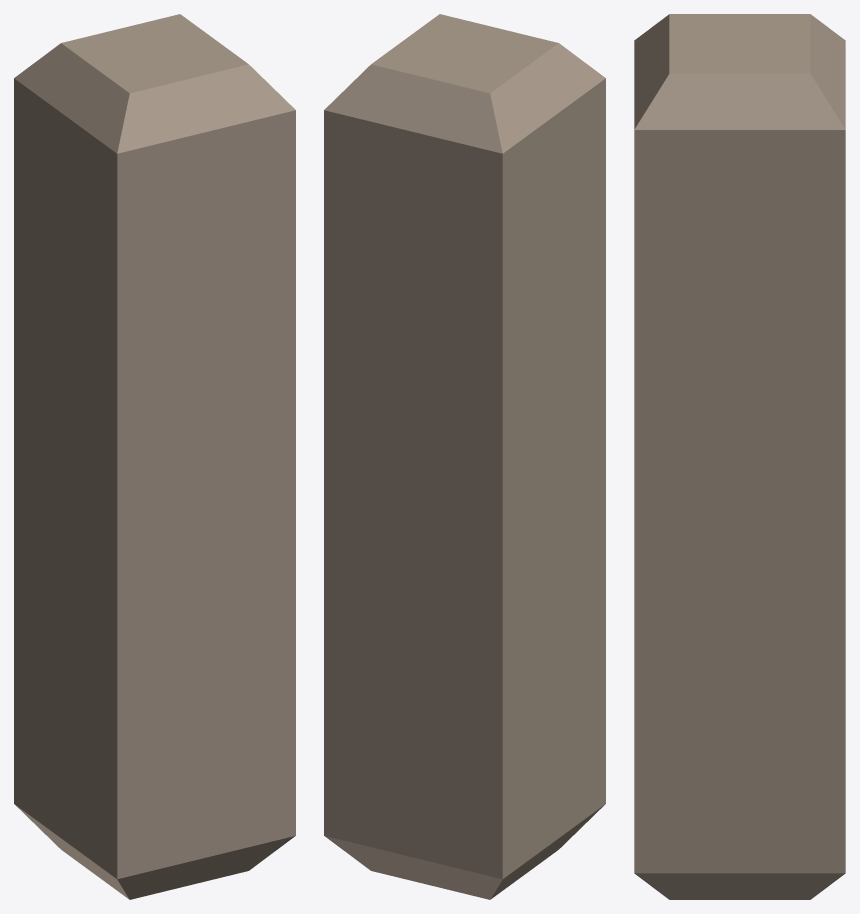
The model's file is Wood_Post_Large.glb.
3 views of the same model, side by side, from view 1: azimuth 30°, elevation 25°; view 2: azimuth 150°, elevation 25°; view 3: azimuth 270°, elevation 25° (orthographic). The views are drawn at different scales.
Parts seen in each view (by area): view 1: object1; view 2: object1; view 3: object1.
Part boxes in pixels (<box>): object1: <box>14,14,295,899</box>; object1: <box>324,14,605,899</box>; object1: <box>634,14,845,899</box>.
Size of the model in its own units: 0.231 by 0.9959 by 0.231.
